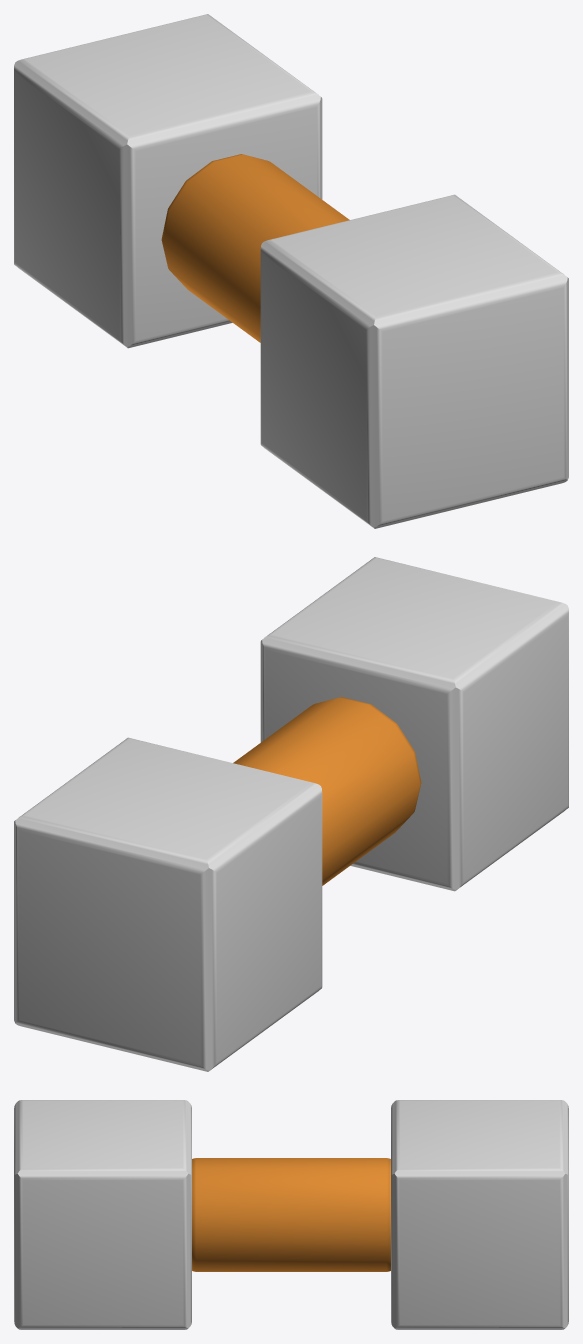
The model's file is R4C_STRUT_STANDARD.fbx.
3 views of the same model, one above another, from view 1: azimuth 30°, elevation 25°; view 2: azimuth 150°, elevation 25°; view 3: azimuth 270°, elevation 25° (orthographic). The views are drawn at different scales.
Parts seen in each view (by area): view 1: R4C_STRUT_STANDARD; view 2: R4C_STRUT_STANDARD; view 3: R4C_STRUT_STANDARD.
Boxes of the visible parts, left/top/right/bottom form: R4C_STRUT_STANDARD: left=14, top=14, right=568, bottom=528; R4C_STRUT_STANDARD: left=14, top=557, right=568, bottom=1071; R4C_STRUT_STANDARD: left=14, top=1100, right=568, bottom=1329.
Bounding box in the file's own units: 0.52 × 0.52 × 1.62.
